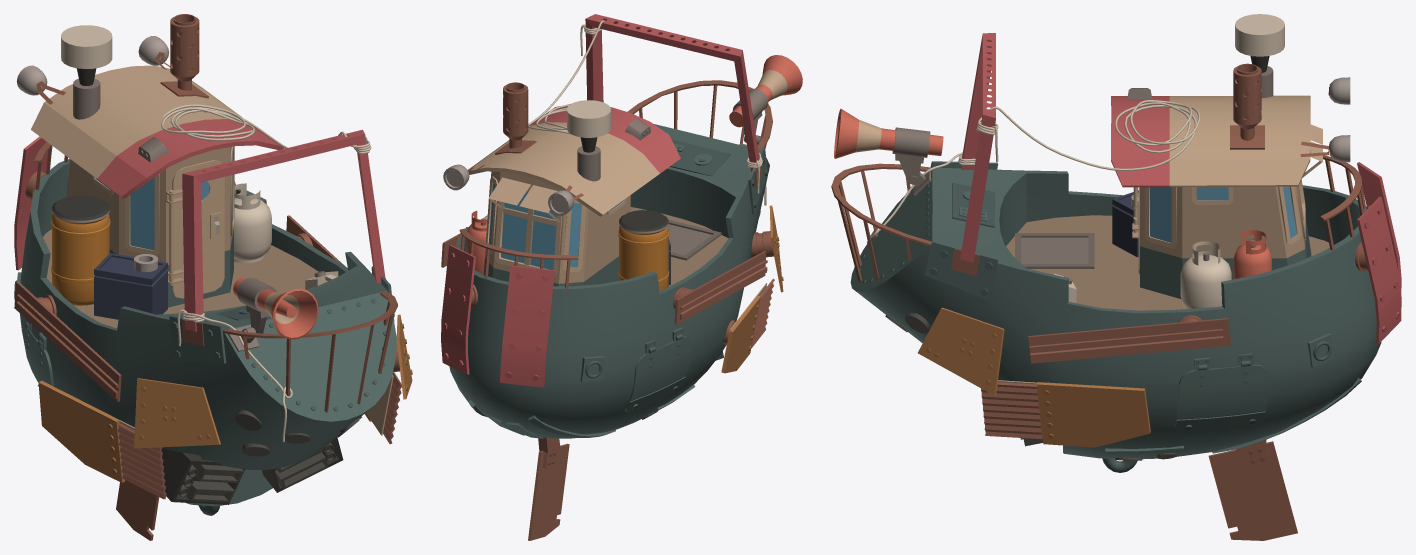
3 renders of one model, left to right at view 1: azimuth 30°, elevation 25°; view 2: azimuth 150°, elevation 25°; view 3: azimuth 270°, elevation 25°, orthographic. The views are drawn at different scales.
Visible parts, largest first — view 1: Sphere_2, wPlane_9, Plane_6, Cube.001_1, Plane.004_12, Cylinder.010_20, Plane.003_11, Cube.010_24, Plane.009_30, Cube.021_64, Plane.018_92, BezierCurve.003_162 (+18 smaller); view 2: Sphere_2, wPlane_9, Plane.007_18, Cube.001_1, Plane_6, Cylinder.010_20, Plane.015_57, Plane.009_30, Plane.005_13, Plane.019_63, Cylinder.001_5, Cylinder.003_36 (+23 smaller); view 3: Sphere_2, wPlane_9, Cube.001_1, Plane.003_11, Plane.009_30, Plane.005_13, Plane.015_57, Plane.007_18, Plane.004_12, Plane_6, Plane.018_92, BezierCurve.003_162 (+18 smaller).
Boxes of the visible parts, x1,y1,x2,y2 form: Sphere_2: (19, 159, 396, 506); wPlane_9: (31, 65, 284, 198); Plane_6: (182, 129, 385, 331); Cube.001_1: (66, 146, 233, 307); Plane.004_12: (134, 314, 412, 448); Cylinder.010_20: (51, 195, 110, 305); Plane.003_11: (38, 380, 371, 482); Cube.010_24: (94, 253, 167, 319); Plane.009_30: (14, 215, 344, 401); Cube.021_64: (172, 160, 224, 298); Plane.018_92: (117, 372, 401, 499); BezierCurve.003_162: (161, 104, 371, 442); Sphere_2: (449, 124, 769, 438); wPlane_9: (467, 103, 680, 216); Plane.007_18: (441, 245, 554, 387); Cube.001_1: (483, 171, 629, 286); Plane_6: (585, 14, 760, 175); Cylinder.010_20: (618, 210, 669, 291); Plane.015_57: (625, 336, 692, 413); Plane.009_30: (441, 233, 767, 324); Plane.005_13: (528, 443, 569, 540); Plane.019_63: (501, 191, 557, 269); Cylinder.001_5: (729, 55, 802, 127); Cylinder.003_36: (566, 100, 610, 137); Sphere_2: (850, 167, 1381, 459); wPlane_9: (1111, 95, 1310, 187); Cube.001_1: (1140, 185, 1311, 299); Plane.003_11: (1037, 382, 1150, 447); Plane.009_30: (1028, 318, 1230, 363); Plane.005_13: (1208, 441, 1297, 540); Plane.015_57: (1175, 364, 1268, 434); Plane.007_18: (1357, 162, 1401, 343); Plane.004_12: (918, 307, 1004, 395); Plane_6: (960, 33, 995, 262); Plane.018_92: (981, 382, 1042, 439); BezierCurve.003_162: (867, 100, 1200, 243).
Size of what is drawn, in the model's own units: 2.48 by 3.82 by 4.01.
